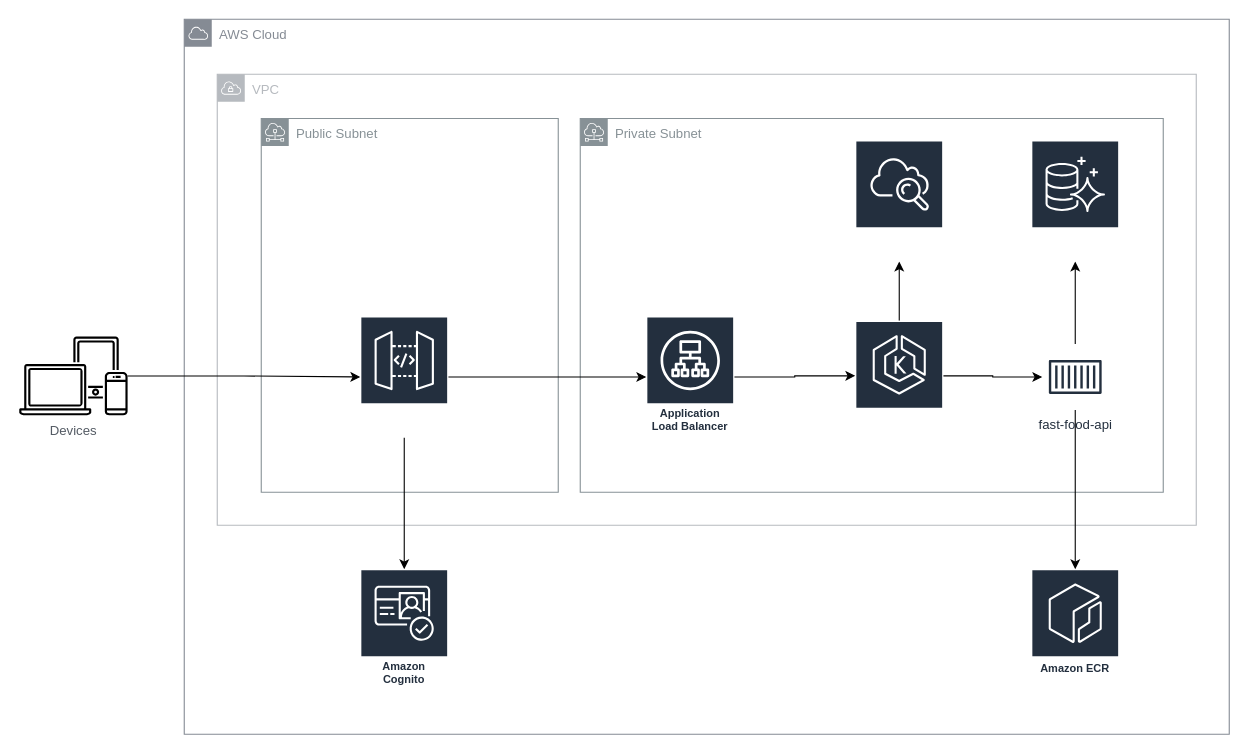
The diagram is 1249 pixels wide and 754 high, and some of its shapes have lost their labels. The centre of each missing label's shape, as x and y in pixels:
Amazon API Gateway: the point at 403,376
Amazon Aurora: the point at 1074,200
Amazon CloudWatch: the point at 898,200
Amazon EKS: the point at 898,375
